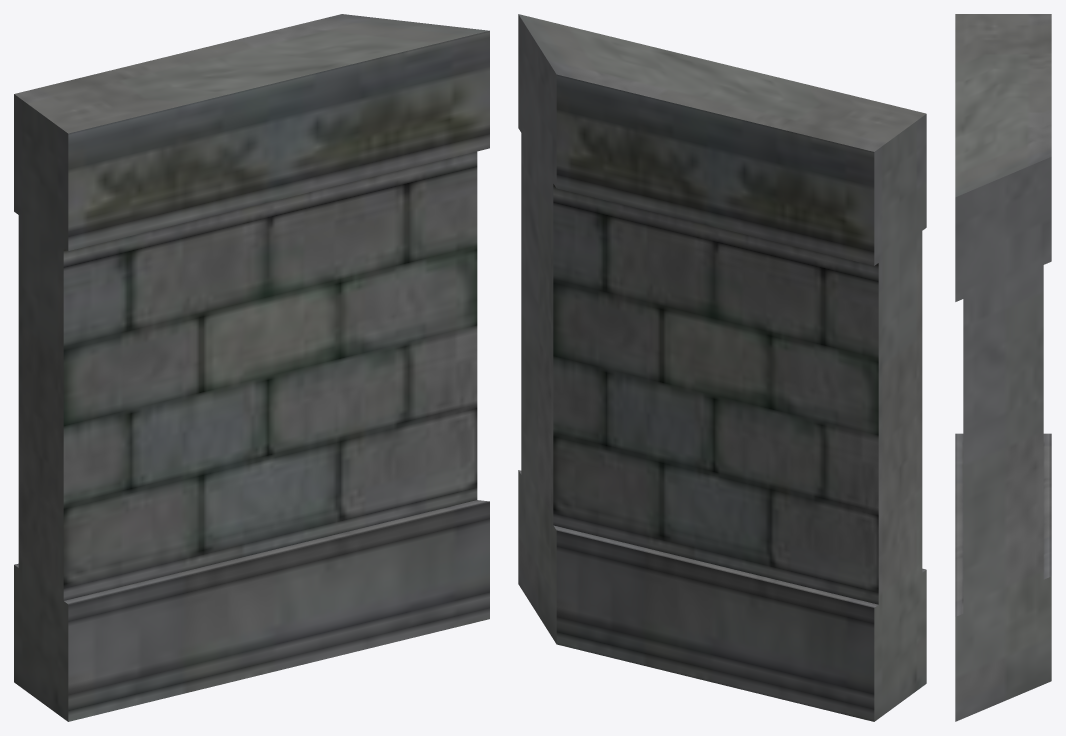
File: sd_wall_small_corner_l_01.glb
The picture shows the model from 3 angles, left to right: view 1: azimuth 30°, elevation 25°; view 2: azimuth 150°, elevation 25°; view 3: azimuth 270°, elevation 25°; orthographic projection. The views are drawn at different scales.
Visible parts, largest first — view 1: wall_small_corner_L_01; view 2: wall_small_corner_L_01; view 3: wall_small_corner_L_01.
Part boxes in pixels (left/top/right/bottom): wall_small_corner_L_01: left=14, top=14, right=489, bottom=721; wall_small_corner_L_01: left=518, top=14, right=926, bottom=721; wall_small_corner_L_01: left=955, top=14, right=1051, bottom=721.
Size of the model in its own units: 2.25 by 3 by 0.4999.
Materials: 1 (1 with a texture image).
